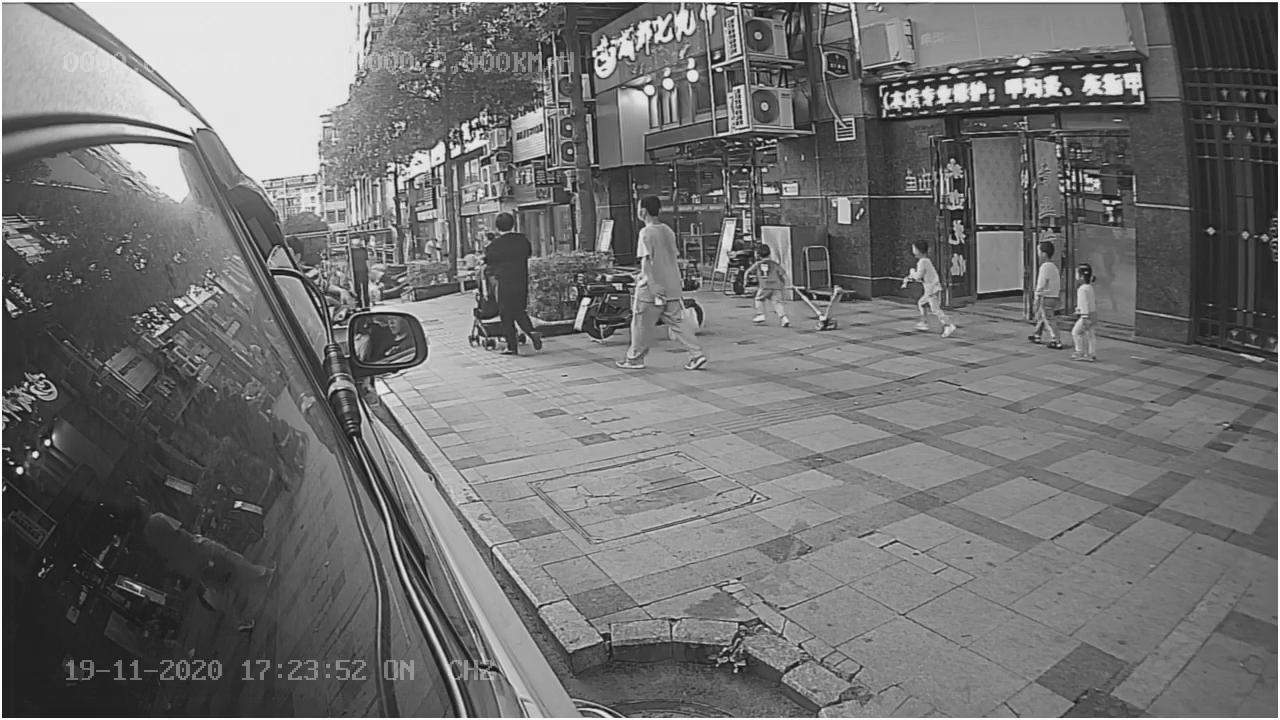person: (615, 194, 712, 370), (473, 212, 548, 355), (899, 241, 962, 339), (1020, 236, 1064, 349), (741, 242, 796, 326), (1065, 263, 1101, 363)
